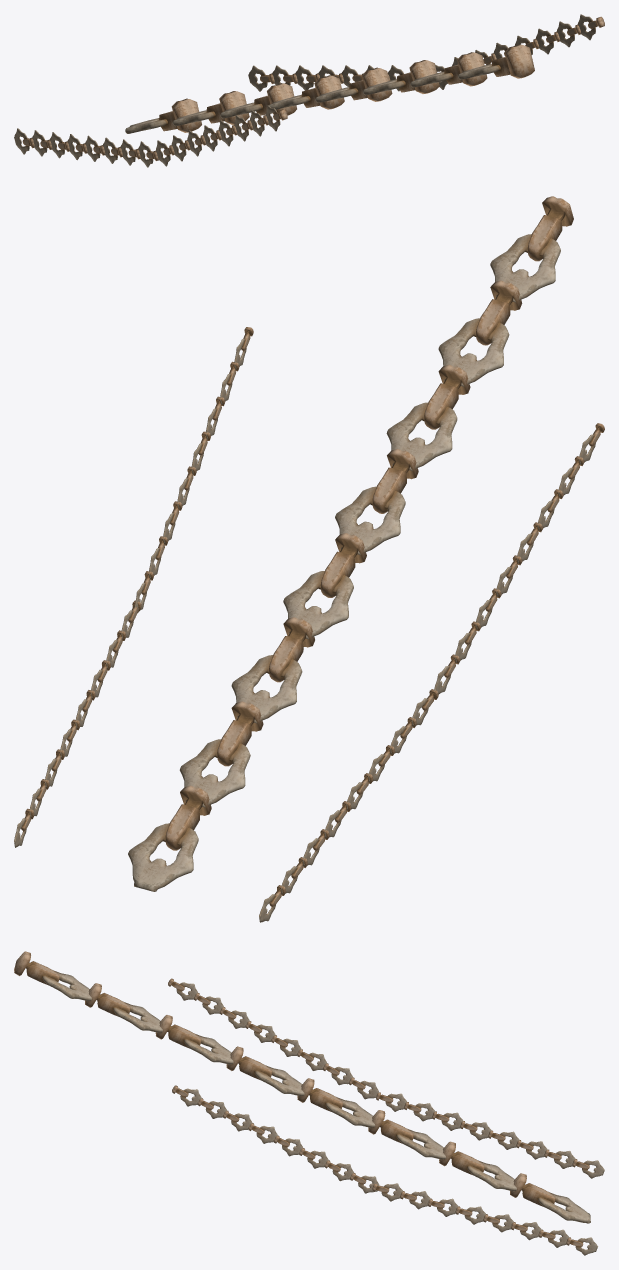
The model's file is Chains_Separated.fbx.
3 views of the same model, one above another, from view 1: azimuth 30°, elevation 25°; view 2: azimuth 150°, elevation 25°; view 3: azimuth 270°, elevation 25° (orthographic). The views are drawn at different scales.
Visible parts, largest first — view 1: CadenaArray_2.079, CadenaArray_2.077, CadenaArray_2.075, CadenaArray_2.073, CadenaArray_2.065, CadenaArray_2.071, CadenaArray_2.067, CadenaArray_2.069, CadenaArray_2.064, CadenaArray_2.066, CadenaArray_2.076, CadenaArray_2.078 (+9 smaller); view 2: CadenaArray_2.064, CadenaArray_2.074, CadenaArray_2.066, CadenaArray_2.072, CadenaArray_2.068, CadenaArray_2.076, CadenaArray_2.078, CadenaArray_2.070, CadenaArray_2.079, CadenaArray_2.067, CadenaArray_2.077, CadenaArray_2.065 (+4 smaller); view 3: CadenaArray_2.064, CadenaArray_2.068, CadenaArray_2.076, CadenaArray_2.074, CadenaArray_2.066, CadenaArray_2.072, CadenaArray_2.070, CadenaArray_2.078, CadenaArray_2.079, CadenaArray_2.073, CadenaArray_2.069, CadenaArray_2.065 (+4 smaller).
Part boxes in pixels (bbox=[...]): CadenaArray_2.079: bbox=[492, 44, 534, 78]; CadenaArray_2.077: bbox=[444, 52, 487, 86]; CadenaArray_2.075: bbox=[397, 60, 439, 93]; CadenaArray_2.073: bbox=[349, 67, 392, 101]; CadenaArray_2.065: bbox=[159, 98, 201, 132]; CadenaArray_2.071: bbox=[301, 75, 344, 109]; CadenaArray_2.067: bbox=[206, 91, 249, 124]; CadenaArray_2.069: bbox=[254, 83, 296, 115]; CadenaArray_2.064: bbox=[125, 118, 167, 133]; CadenaArray_2.066: bbox=[172, 110, 215, 126]; CadenaArray_2.076: bbox=[410, 71, 453, 87]; CadenaArray_2.078: bbox=[458, 63, 500, 79]; CadenaArray_2.064: bbox=[128, 823, 198, 891]; CadenaArray_2.074: bbox=[386, 402, 457, 470]; CadenaArray_2.066: bbox=[179, 739, 250, 807]; CadenaArray_2.072: bbox=[335, 486, 405, 554]; CadenaArray_2.068: bbox=[231, 655, 302, 723]; CadenaArray_2.076: bbox=[438, 318, 509, 386]; CadenaArray_2.078: bbox=[490, 234, 560, 302]; CadenaArray_2.070: bbox=[283, 571, 353, 639]; CadenaArray_2.079: bbox=[527, 196, 573, 261]; CadenaArray_2.067: bbox=[217, 701, 263, 766]; CadenaArray_2.077: bbox=[476, 280, 522, 345]; CadenaArray_2.065: bbox=[165, 785, 211, 850]; CadenaArray_2.064: bbox=[537, 1192, 590, 1223]; CadenaArray_2.068: bbox=[396, 1129, 446, 1159]; CadenaArray_2.076: bbox=[112, 1001, 162, 1032]; CadenaArray_2.074: bbox=[183, 1034, 233, 1064]; CadenaArray_2.066: bbox=[467, 1160, 516, 1191]; CadenaArray_2.072: bbox=[254, 1065, 304, 1095]; CadenaArray_2.070: bbox=[325, 1097, 375, 1127]; CadenaArray_2.078: bbox=[42, 970, 91, 1000]; CadenaArray_2.079: bbox=[14, 951, 59, 985]; CadenaArray_2.073: bbox=[226, 1046, 272, 1080]; CadenaArray_2.069: bbox=[368, 1110, 413, 1143]; CadenaArray_2.065: bbox=[510, 1173, 555, 1206].
Size of the model in its own units: 2023 by 2127 by 4257.
